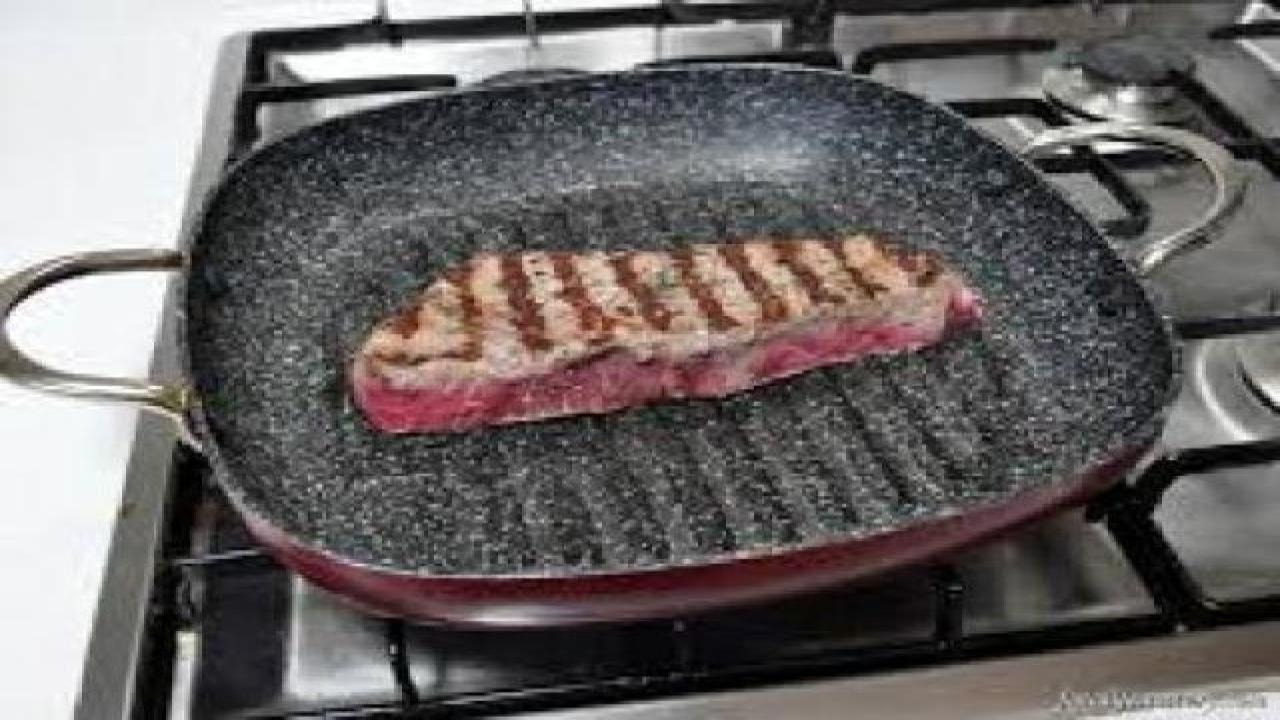Carne: (303, 309, 996, 487)
